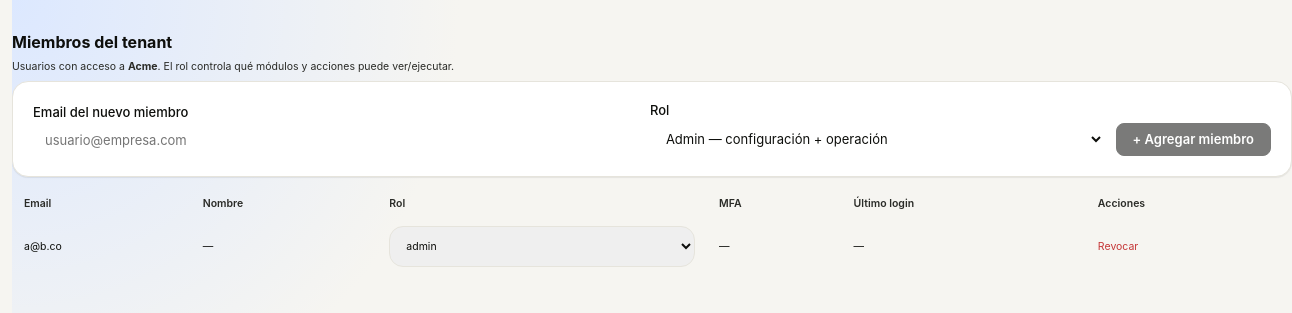
Test case: <TenantMembersPanel/> › muestra error si revoke falla
Check: the table with test id "members-table" is shown, box [12, 189, 1291, 275]
Click the button with test id "member-remove-a@b.co". click: [1118, 246]
box: [1098, 240, 1138, 253]
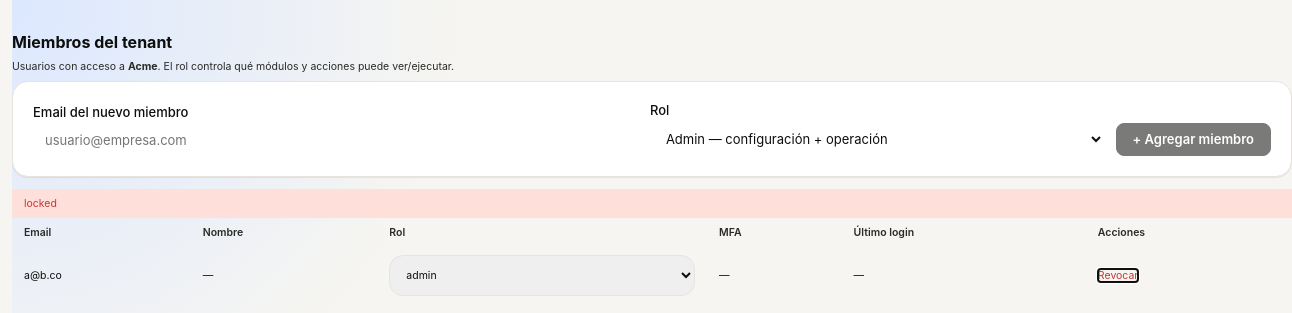
Check: the message reads "locked", box [24, 197, 57, 210]
